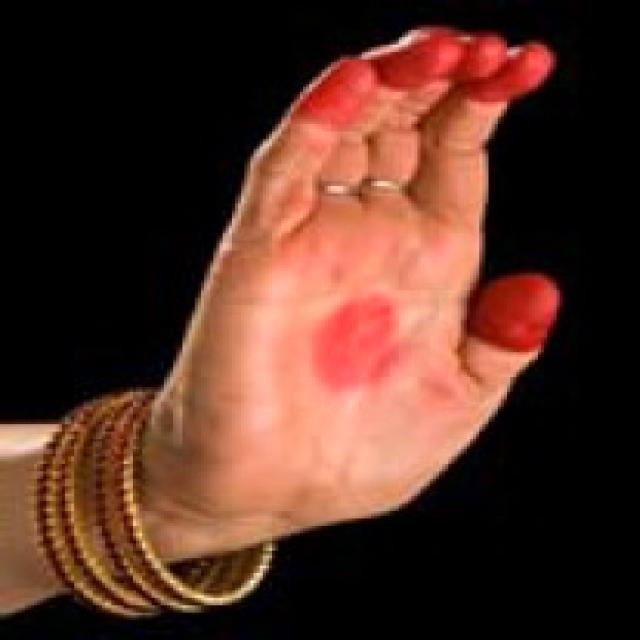Sarpashirsha: (132, 9, 599, 534)
